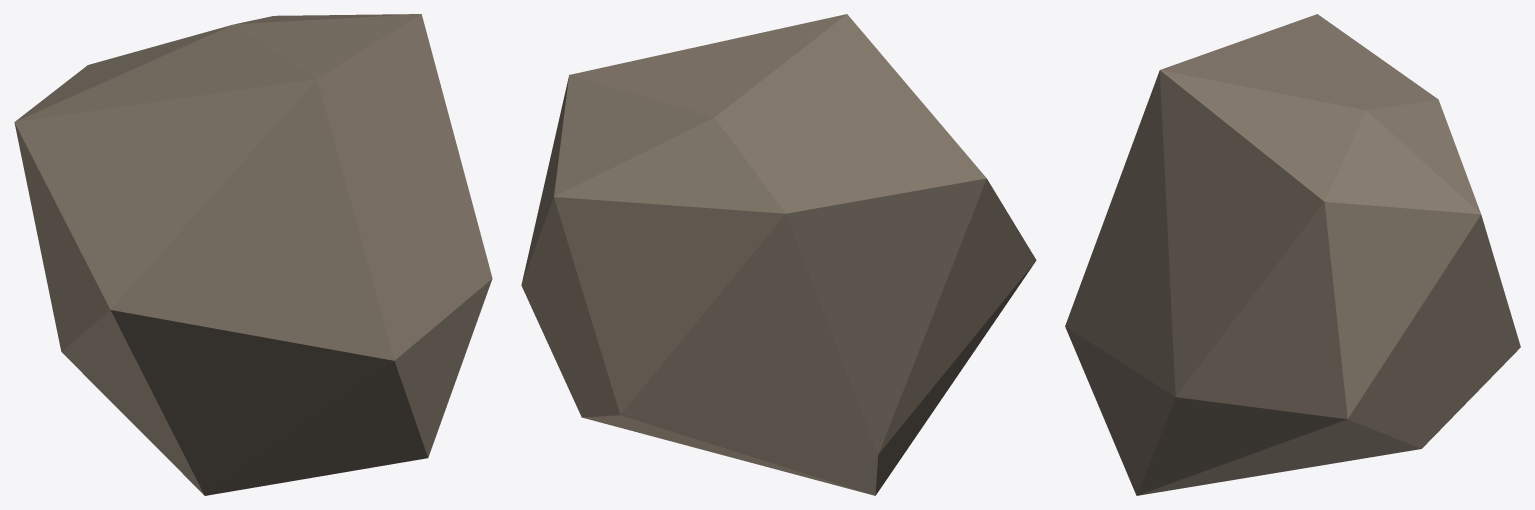
The model's file is Low Poly Weapon Pack - by Kickin It Studios.fbx_Big_Rock.glb.
3 renders of one model, left to right at view 1: azimuth 30°, elevation 25°; view 2: azimuth 150°, elevation 25°; view 3: azimuth 270°, elevation 25°, orthographic. The views are drawn at different scales.
Parts seen in each view (by area): view 1: Big Rock; view 2: Big Rock; view 3: Big Rock.
Part boxes in pixels (<box>): Big Rock: <box>14,14,492,495</box>; Big Rock: <box>521,14,1036,495</box>; Big Rock: <box>1065,14,1520,495</box>.
Size of the model in its own units: 0.2541 by 0.2343 by 0.2337.
